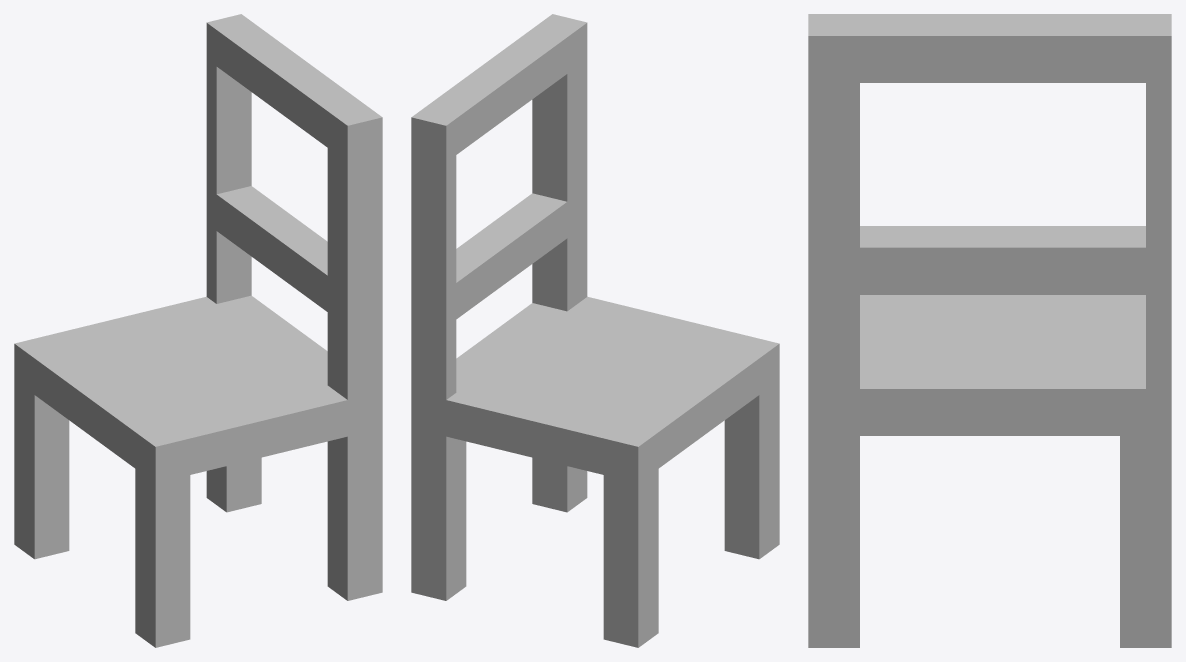
Rendered from chair.fbx.
3 renders of one model, left to right at view 1: azimuth 30°, elevation 25°; view 2: azimuth 150°, elevation 25°; view 3: azimuth 270°, elevation 25°, orthographic. The views are drawn at different scales.
Parts seen in each view (by area): view 1: chair; view 2: chair; view 3: chair.
Part boxes in pixels (bbox=[...]): chair: bbox=[14, 14, 382, 647]; chair: bbox=[411, 14, 779, 647]; chair: bbox=[808, 14, 1171, 647].
Bounding box in the file's own units: 13 × 26 × 14.
